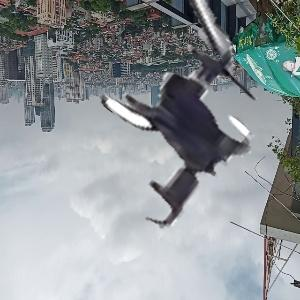drone: (76, 13, 295, 232)
